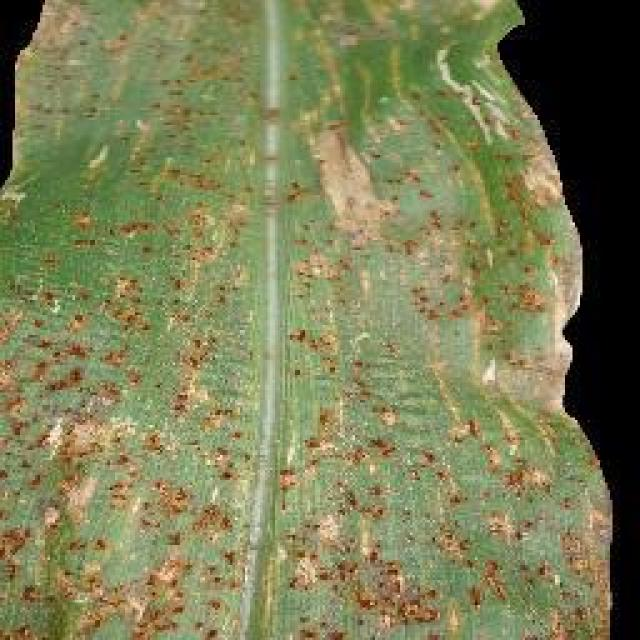Corn Common Rust: (40, 66, 560, 556)
